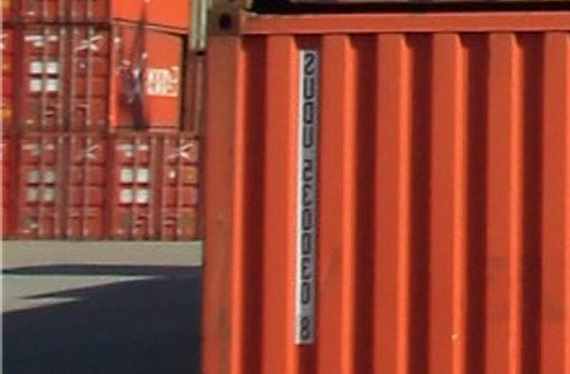container_door: (16, 131, 109, 241), (111, 132, 204, 241), (18, 23, 111, 132)
container_no_door: (207, 9, 568, 372)
